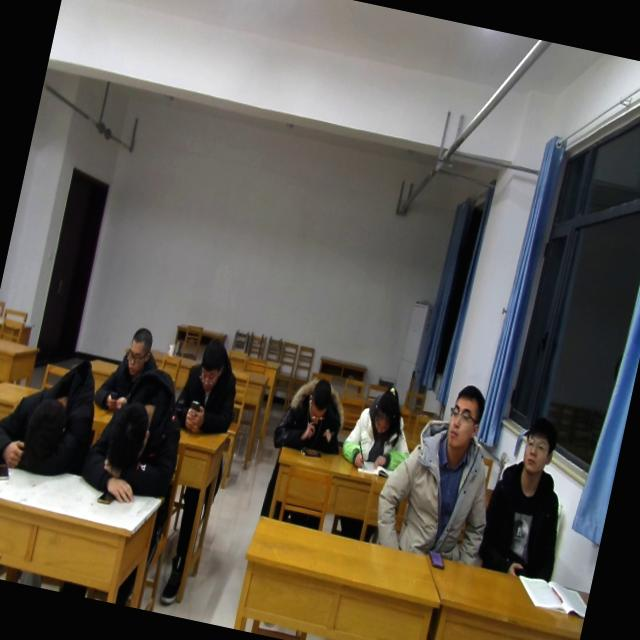bow: (74, 363, 196, 518), (0, 351, 104, 487)
down: (116, 318, 160, 383), (192, 330, 232, 396), (366, 379, 406, 436), (300, 370, 339, 426)
lookup: (439, 376, 492, 458), (512, 406, 562, 483)
sit: (370, 366, 518, 566), (477, 406, 584, 578), (336, 376, 426, 476), (170, 332, 250, 441), (270, 363, 356, 464), (99, 319, 177, 407)
